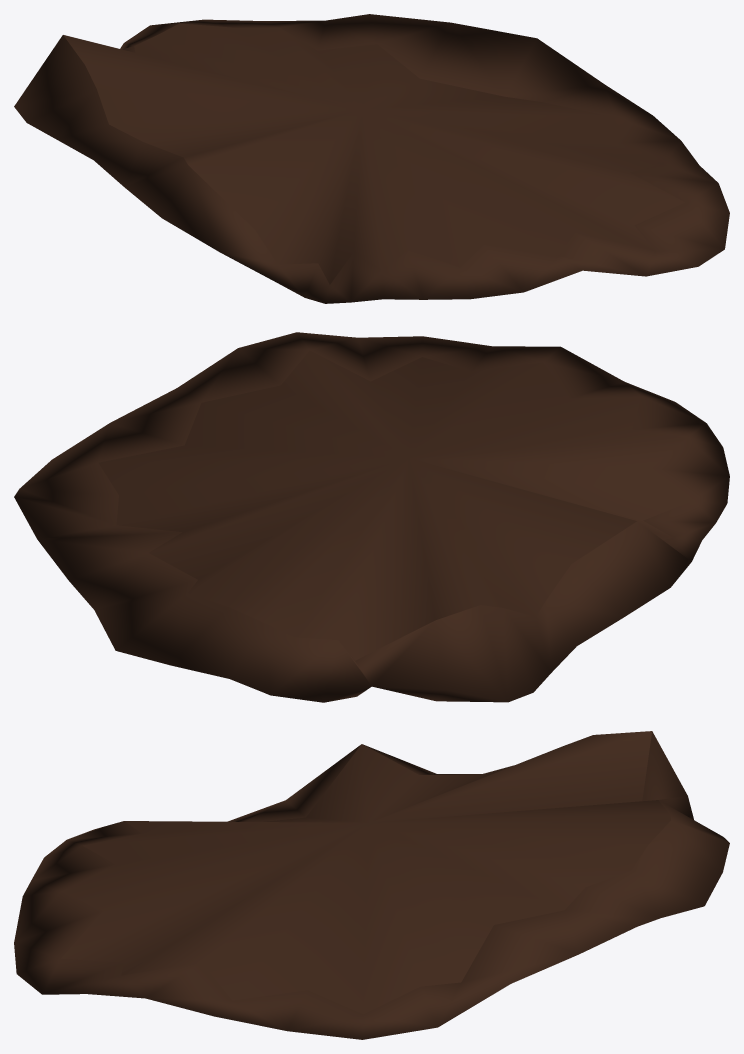
File: Fladen.obj
3 views of the same model, one above another, from view 1: azimuth 30°, elevation 25°; view 2: azimuth 150°, elevation 25°; view 3: azimuth 270°, elevation 25° (orthographic). The views are drawn at different scales.
Visible parts, largest first — view 1: Cylinder001; view 2: Cylinder001; view 3: Cylinder001.
Part boxes in pixels (left/top/right/bottom): Cylinder001: left=14, top=14, right=729, bottom=303; Cylinder001: left=14, top=332, right=729, bottom=702; Cylinder001: left=14, top=731, right=729, bottom=1039.
Bounding box in the file's own units: 23.24 × 4.18 × 28.1.
